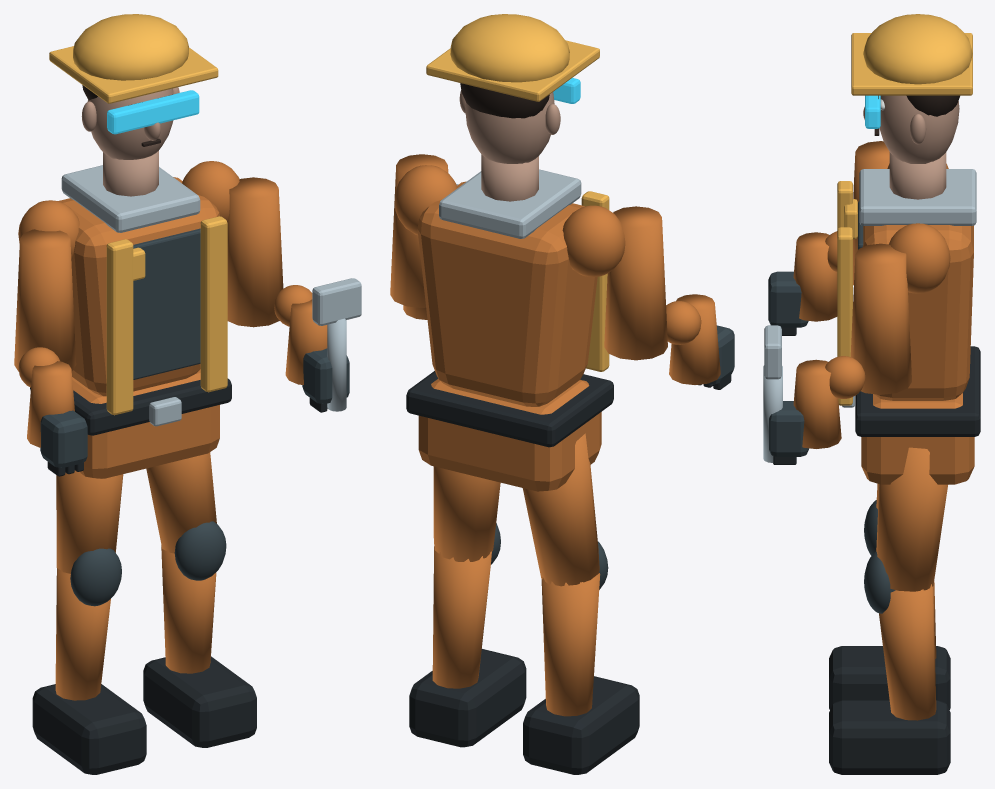
File: crew_industry.glb
The picture shows the model from 3 angles, left to right: view 1: azimuth 30°, elevation 25°; view 2: azimuth 150°, elevation 25°; view 3: azimuth 270°, elevation 25°; orthographic projection. The views are drawn at different scales.
Parts seen in each view (by area): view 1: Crew_Industry_Orange, Crew_Boots, Hangar_Recess_Metal, RightArmPivot_Crew_Industry_Orange, LeftArmPivot_Crew_Industry_Orange, Hangar_Safety_Amber, HeadPivot_Hangar_Safety_Amber, Hangar_Trim_Metal, HeadPivot_Crew_Warm_Skin, HeadPivot_Crew_Screen_Blue, LeftArmPivot_Hangar_Recess_Metal, Crew_Warm_Skin (+1 smaller); view 2: Crew_Industry_Orange, Crew_Boots, LeftArmPivot_Crew_Industry_Orange, HeadPivot_Hangar_Safety_Amber, RightArmPivot_Crew_Industry_Orange, Hangar_Trim_Metal, HeadPivot_Crew_Warm_Skin, Crew_Warm_Skin, Hangar_Safety_Amber, HeadPivot_Crew_Hair, LeftArmPivot_Hangar_Recess_Metal; view 3: Crew_Industry_Orange, Crew_Boots, RightArmPivot_Crew_Industry_Orange, HeadPivot_Hangar_Safety_Amber, Hangar_Trim_Metal, LeftArmPivot_Crew_Industry_Orange, HeadPivot_Crew_Warm_Skin, Hangar_Safety_Amber, Crew_Warm_Skin, Hangar_Recess_Metal, LeftArmPivot_Hangar_Recess_Metal, RightArmPivot_Hangar_Recess_Metal (+2 smaller).
Boxes of the visible parts, x1=… form: Crew_Industry_Orange: x1=55, y1=177, x2=219, y2=700; Crew_Boots: x1=30, y1=378, x2=256, y2=774; Hangar_Recess_Metal: x1=70, y1=228, x2=226, y2=606; RightArmPivot_Crew_Industry_Orange: x1=182, y1=161, x2=327, y2=384; LeftArmPivot_Crew_Industry_Orange: x1=14, y1=200, x2=79, y2=447; Hangar_Safety_Amber: x1=106, y1=216, x2=227, y2=415; HeadPivot_Hangar_Safety_Amber: x1=49, y1=14, x2=218, y2=103; Hangar_Trim_Metal: x1=61, y1=165, x2=361, y2=426; HeadPivot_Crew_Warm_Skin: x1=81, y1=87, x2=179, y2=159; HeadPivot_Crew_Screen_Blue: x1=107, y1=90, x2=199, y2=134; LeftArmPivot_Hangar_Recess_Metal: x1=40, y1=410, x2=87, y2=467; Crew_Warm_Skin: x1=103, y1=151, x2=158, y2=196; Crew_Industry_Orange: x1=417, y1=181, x2=601, y2=716; Crew_Boots: x1=406, y1=371, x2=639, y2=774; LeftArmPivot_Crew_Industry_Orange: x1=562, y1=205, x2=720, y2=384; HeadPivot_Hangar_Safety_Amber: x1=426, y1=14, x2=599, y2=101; RightArmPivot_Crew_Industry_Orange: x1=390, y1=154, x2=457, y2=319; Hangar_Trim_Metal: x1=439, y1=169, x2=581, y2=238; HeadPivot_Crew_Warm_Skin: x1=459, y1=90, x2=560, y2=163; Crew_Warm_Skin: x1=481, y1=154, x2=538, y2=201; Hangar_Safety_Amber: x1=581, y1=191, x2=609, y2=371; HeadPivot_Crew_Hair: x1=460, y1=83, x2=549, y2=118; LeftArmPivot_Hangar_Recess_Metal: x1=708, y1=325, x2=734, y2=384; Crew_Industry_Orange: x1=861, y1=225, x2=974, y2=720; Crew_Boots: x1=829, y1=346, x2=980, y2=774; RightArmPivot_Crew_Industry_Orange: x1=793, y1=223, x2=950, y2=448; HeadPivot_Hangar_Safety_Amber: x1=851, y1=14, x2=972, y2=95; Hangar_Trim_Metal: x1=763, y1=169, x2=976, y2=462; LeftArmPivot_Crew_Industry_Orange: x1=793, y1=141, x2=948, y2=321; HeadPivot_Crew_Warm_Skin: x1=863, y1=95, x2=959, y2=163; Hangar_Safety_Amber: x1=837, y1=181, x2=857, y2=405; Crew_Warm_Skin: x1=889, y1=152, x2=946, y2=199; Hangar_Recess_Metal: x1=858, y1=201, x2=895, y2=613; LeftArmPivot_Hangar_Recess_Metal: x1=768, y1=271, x2=808, y2=327; RightArmPivot_Hangar_Recess_Metal: x1=769, y1=401, x2=809, y2=456.
Size of the model in its own units: 0.915 by 2.01 by 0.555.
